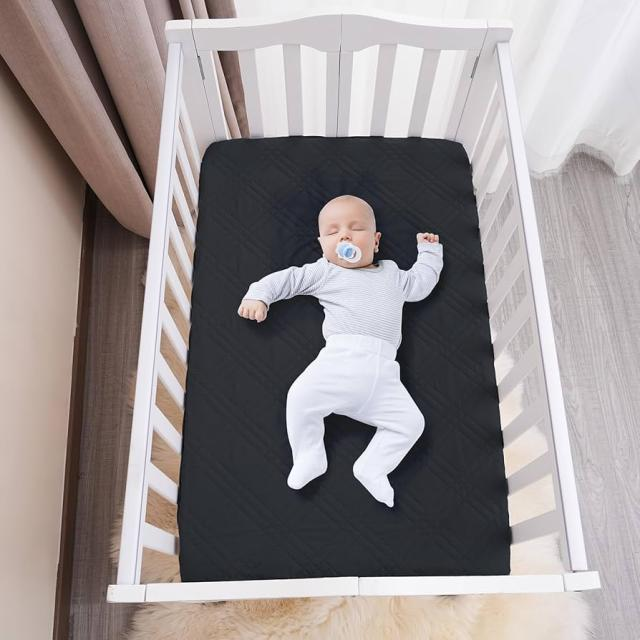baby: (236, 193, 444, 508)
crib: (104, 12, 600, 604)
